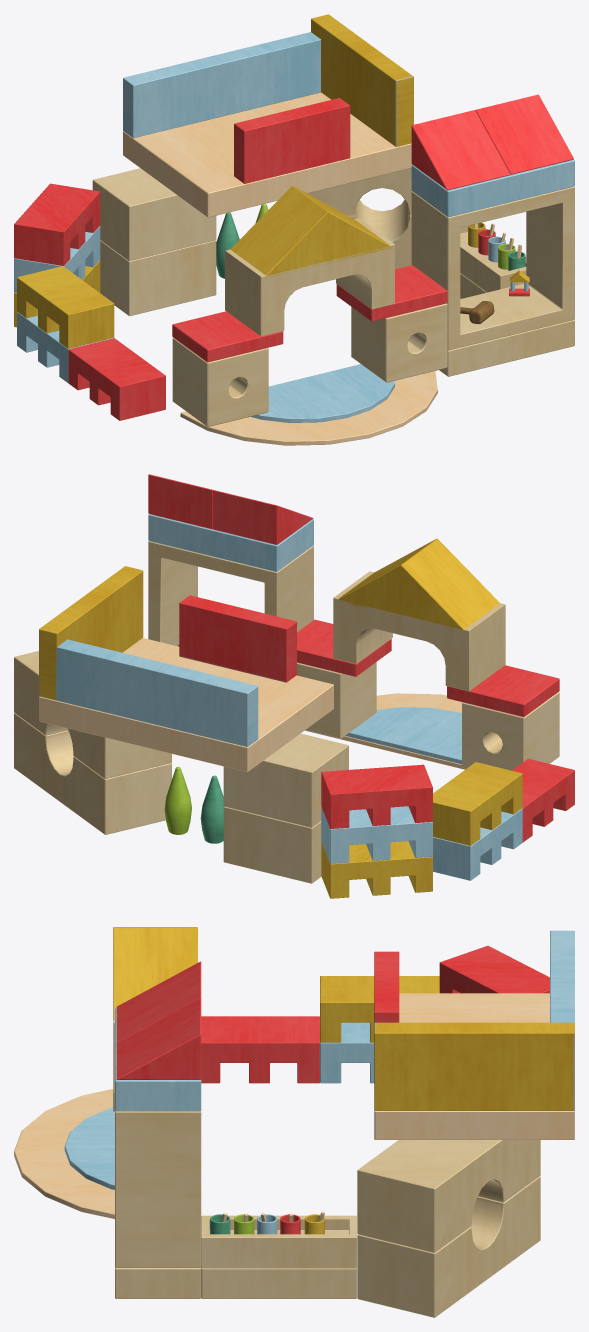
Rendered from house-1.fbx.
3 renders of one model, top to bottom at view 1: azimuth 30°, elevation 25°; view 2: azimuth 150°, elevation 25°; view 3: azimuth 270°, elevation 25°, orthographic. The views are drawn at different scales.
Visible parts, largest first — view 1: house; view 2: house; view 3: house.
Part boxes in pixels (box(x1,y1,x2,y2)): house: box(14, 14, 574, 445); house: box(14, 474, 574, 898); house: box(14, 927, 574, 1317).
Size of the model in its own units: 8.77 by 4.18 by 7.99.
